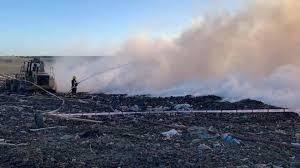smoke: (57, 0, 299, 107)
